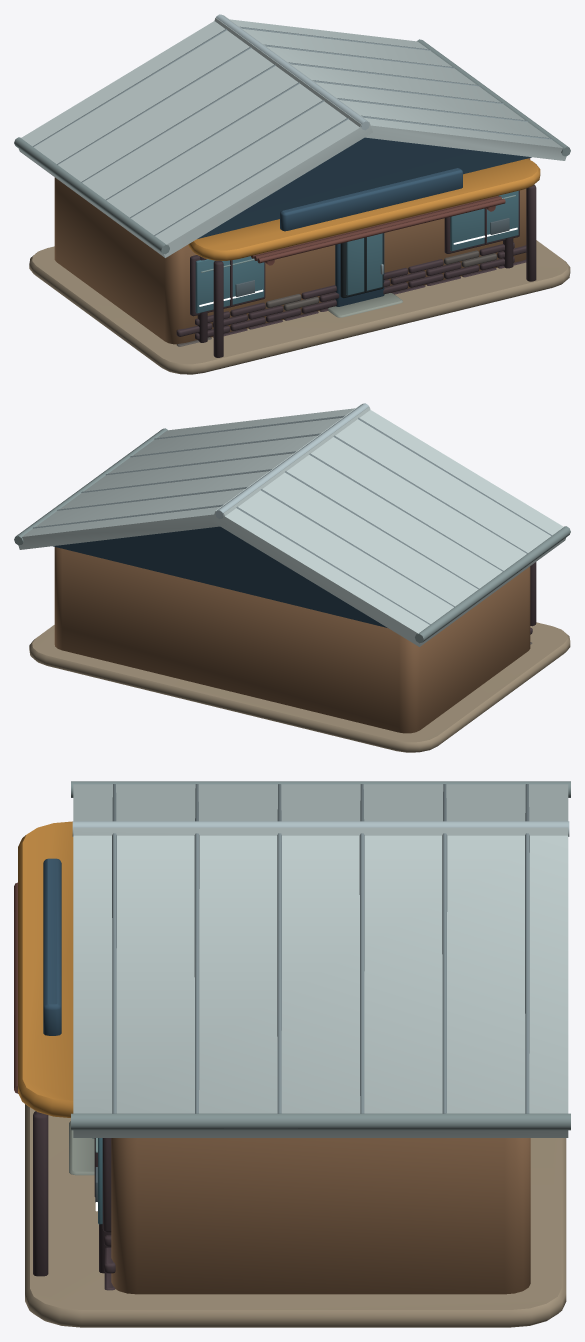
File: alpine_restaurant.glb
3 renders of one model, top to bottom at view 1: azimuth 30°, elevation 25°; view 2: azimuth 150°, elevation 25°; view 3: azimuth 270°, elevation 25°, orthographic. The views are drawn at different scales.
Visible parts, largest first — view 1: Restaurant; view 2: Restaurant; view 3: Restaurant.
Part boxes in pixels (box(x1,y1,x2,y2)): Restaurant: box(14, 14, 570, 374); Restaurant: box(14, 403, 570, 752); Restaurant: box(14, 781, 570, 1327).
Size of the model in its own units: 9.58 by 4.46 by 6.64.
